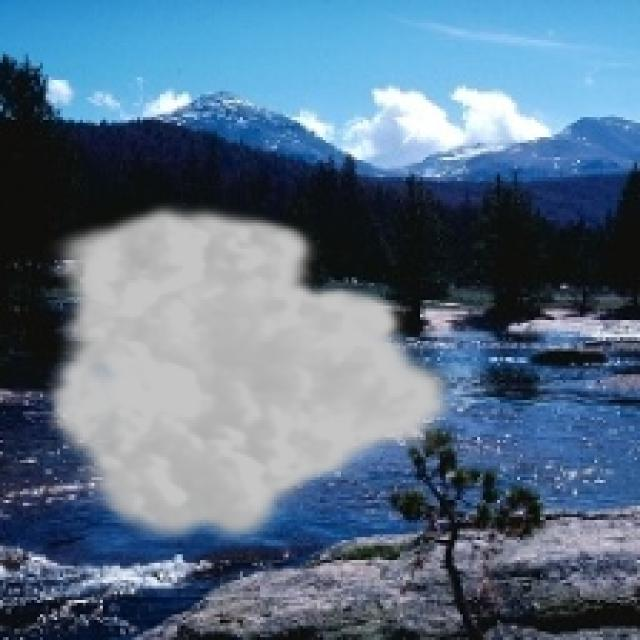smoke: (43, 200, 463, 551)
